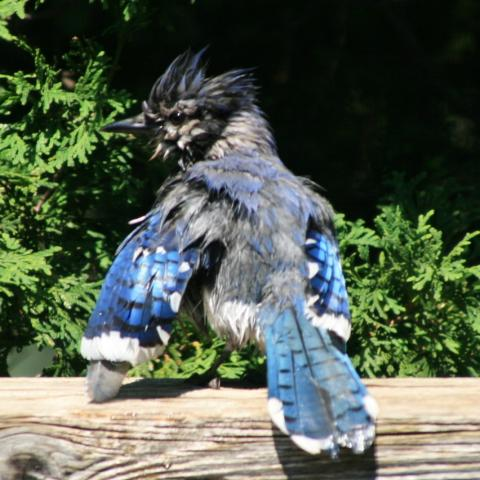bird: (78, 46, 381, 459)
